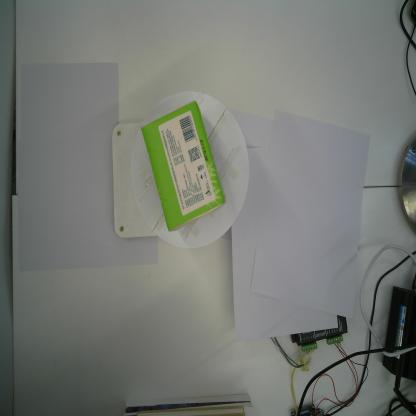Tissue: (140, 100, 226, 232)
